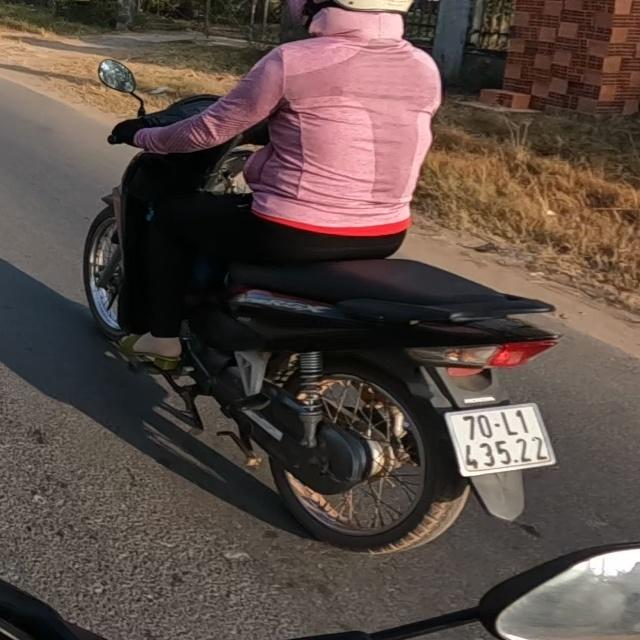license-plate: (442, 403, 557, 479)
